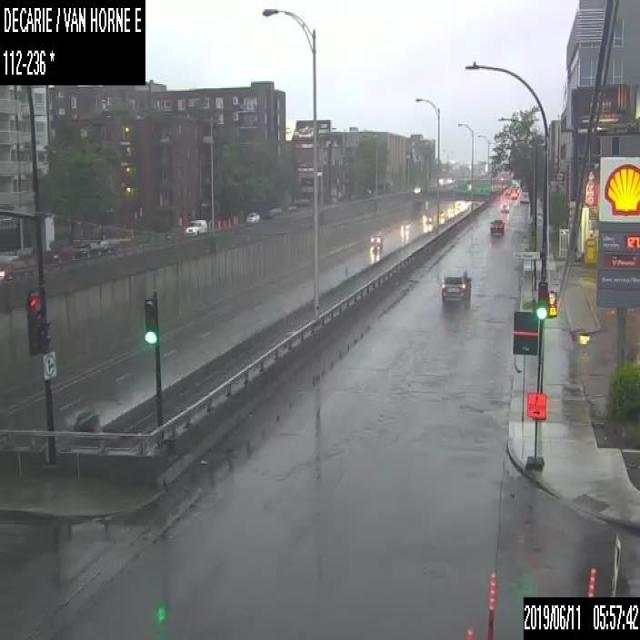construction: (526, 391, 546, 468), (484, 569, 494, 639), (584, 564, 596, 596), (463, 626, 472, 638)
vehicle: (441, 266, 471, 304), (63, 406, 96, 431), (185, 218, 207, 232), (489, 218, 504, 234), (369, 232, 383, 244), (399, 218, 412, 230), (245, 212, 259, 222), (422, 212, 432, 223), (499, 201, 509, 212), (518, 191, 528, 201), (510, 188, 517, 198)
